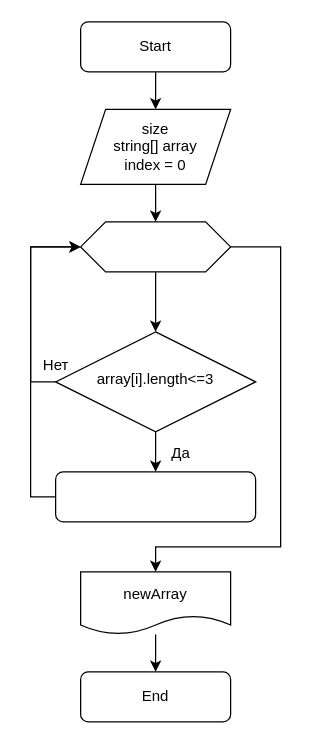
Some shapes in this 313 by 744 pixel diagram are drawn without their labels. Each missing label, with the centre of its shape:
"int i = 0; i < array.Length; i++" goes at (x=155, y=246).
"newArray[index]=array[i] index += 1" goes at (x=155, y=496).
